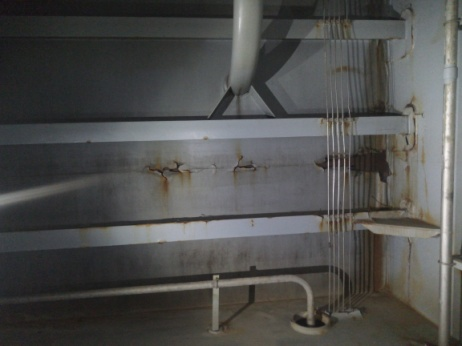corrosion: (137, 161, 197, 198), (390, 148, 424, 206), (404, 238, 426, 299), (312, 210, 358, 233), (310, 15, 356, 35), (317, 112, 358, 134), (229, 154, 266, 176), (324, 60, 366, 75)
